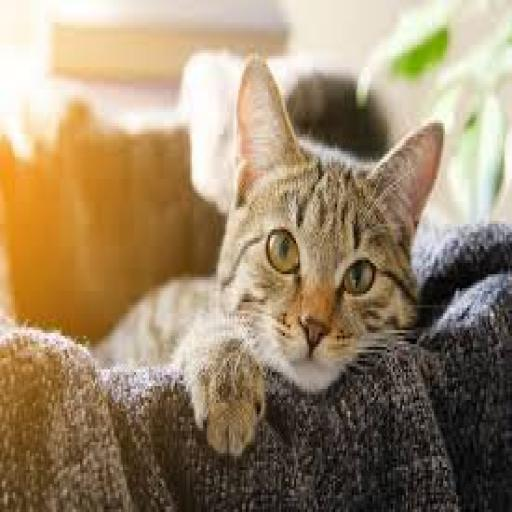cat: (71, 46, 449, 453)
